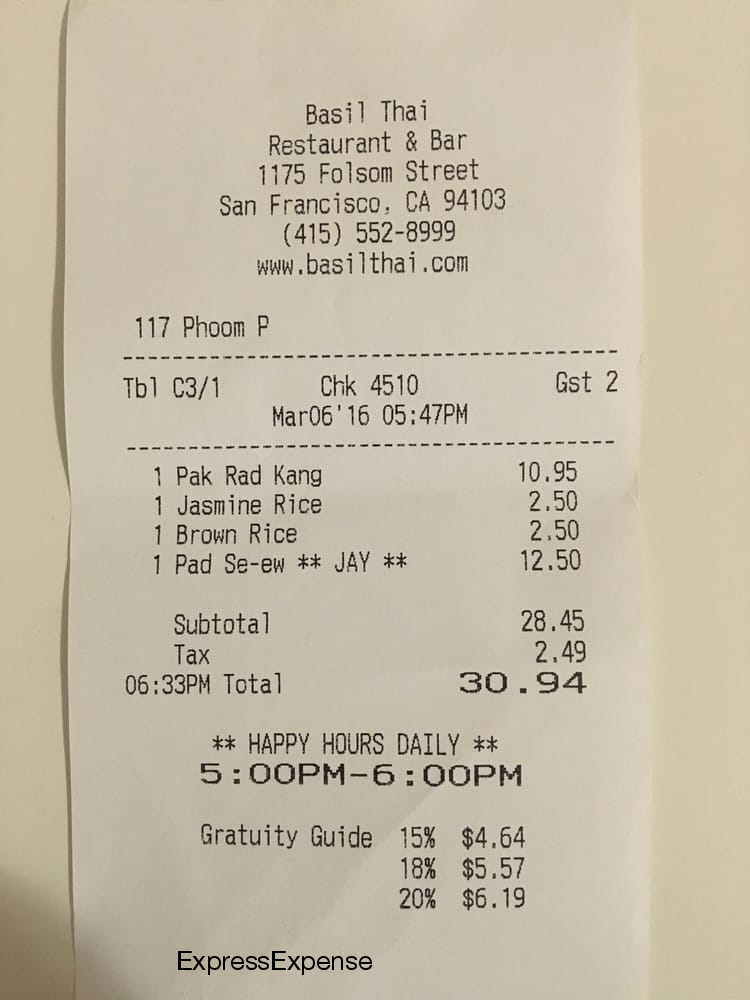Additional details: (67, 710, 655, 952)
Purchase summary: (71, 304, 667, 721)
Receipt: (67, 10, 659, 961)
Shop details: (129, 58, 544, 293)
